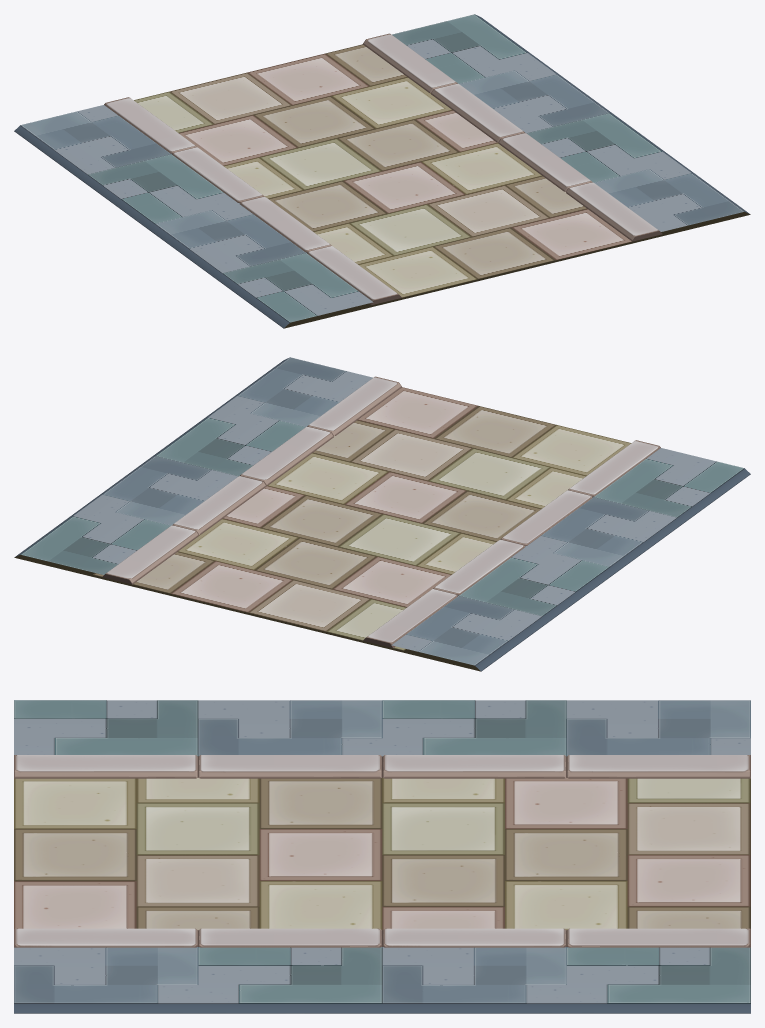
The model's file is road.glb.
The picture shows the model from 3 angles, top to bottom: view 1: azimuth 30°, elevation 25°; view 2: azimuth 150°, elevation 25°; view 3: azimuth 270°, elevation 25°; orthographic projection. The views are drawn at different scales.
Visible parts, largest first — view 1: road_01; view 2: road_01; view 3: road_01.
Part boxes in pixels (bbox=[...]): road_01: bbox=[14, 14, 750, 328]; road_01: bbox=[14, 357, 750, 671]; road_01: bbox=[14, 700, 750, 1013].
Size of what is drawn, in the model's own units: 16 by 0.1983 by 16.
Materials: 1 (1 with a texture image).
